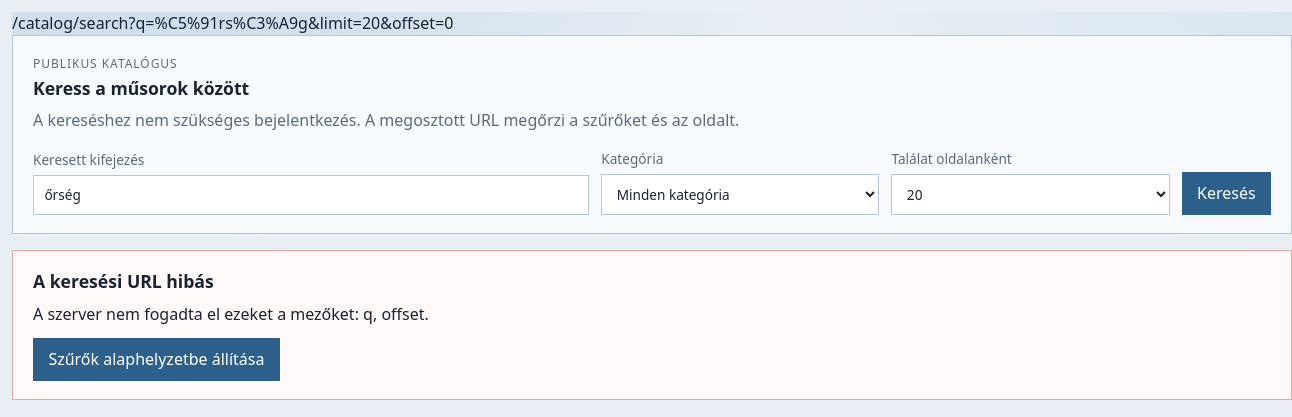
Test case: CatalogSearchPage › offers canonical URL recovery for a backend 422
Expected: the heading "A keresési URL hibás" is shown, x1=33 y1=269 x2=214 y2=293
Expected: the text "A szerver nem fogadta el ezeket a mezőket: q, offset." is shown, x1=33 y1=303 x2=429 y2=325
Click the button "Szűrők alaphelyzetbe állítása".
click(156, 359)  # box x1=33 y1=338 x2=280 y2=381
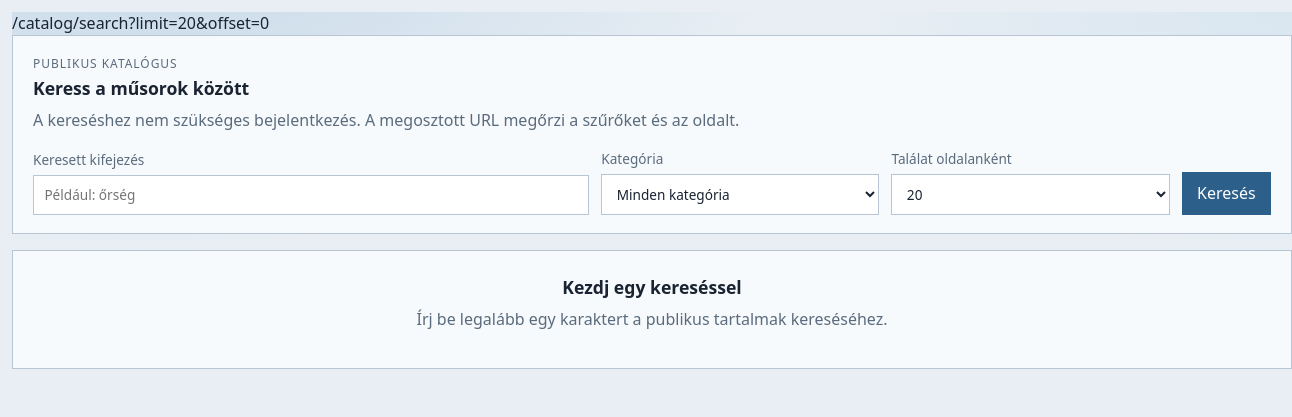
Expected: the text with test id "location" reads "/catalog/search?limit=20&offset=0", x1=12 y1=12 x2=269 y2=34
